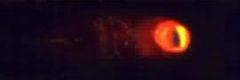keyhole: (168, 27, 185, 50)
